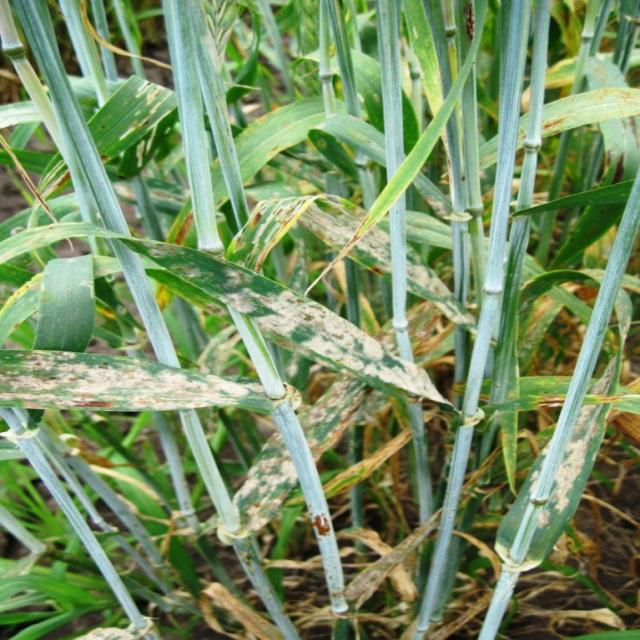wheat-powdery-mildew: (148, 240, 454, 408), (0, 354, 258, 415), (518, 404, 608, 572), (225, 194, 363, 268), (228, 433, 299, 541), (297, 370, 381, 460)
